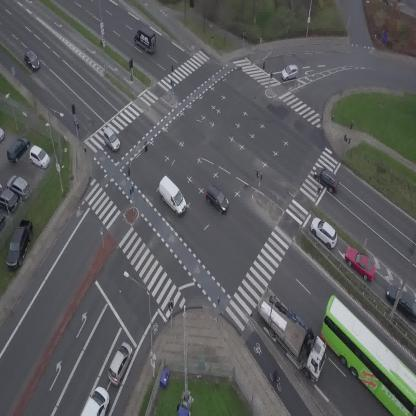bicycle: (269, 369, 283, 392)
car: (340, 241, 382, 285), (103, 340, 137, 387), (305, 213, 343, 251), (81, 383, 116, 416), (309, 163, 344, 195), (202, 184, 233, 215), (97, 126, 124, 153), (20, 49, 43, 73), (279, 63, 300, 81)
lorry: (245, 282, 340, 385), (151, 175, 193, 217), (130, 24, 163, 56)
